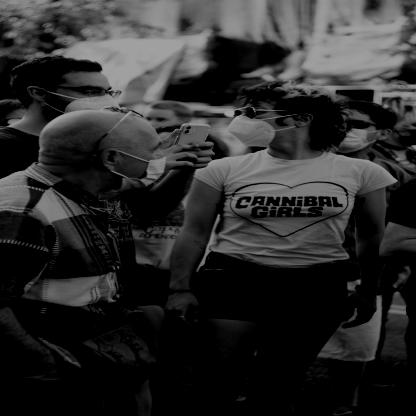jacket: (187, 245, 362, 334)
